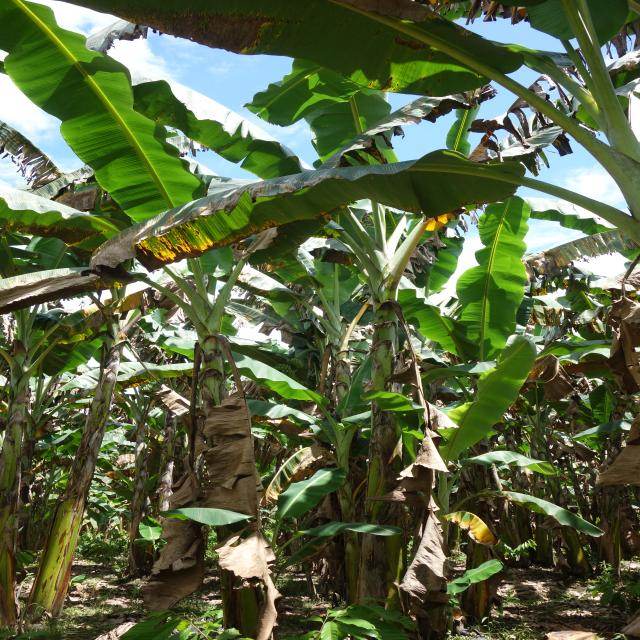Banana-plant: (178, 292, 259, 604), (351, 280, 416, 620)
